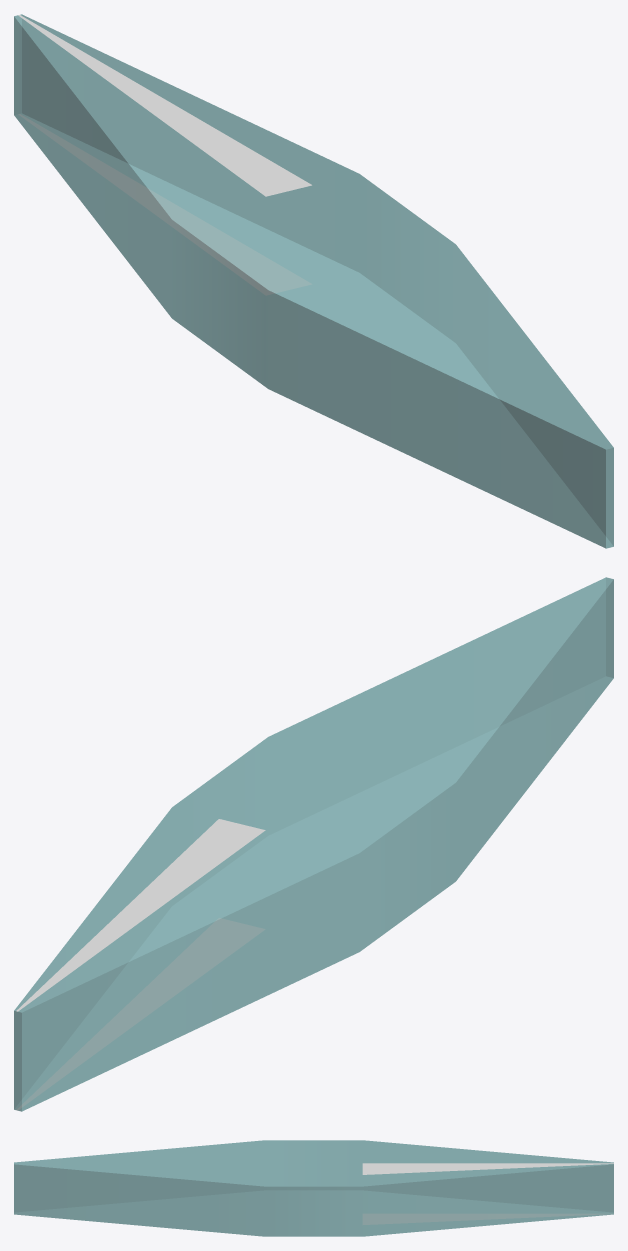
The model's file is ice_shard.fbx.
3 views of the same model, one above another, from view 1: azimuth 30°, elevation 25°; view 2: azimuth 150°, elevation 25°; view 3: azimuth 270°, elevation 25° (orthographic). The views are drawn at different scales.
Parts seen in each view (by area): view 1: pCube9; view 2: pCube9; view 3: pCube9.
Boxes of the visible parts, bbox=[...] form: pCube9: bbox=[14, 14, 613, 548]; pCube9: bbox=[14, 577, 613, 1111]; pCube9: bbox=[14, 1140, 613, 1236].
Bounding box in the file's own units: 0.7289 × 0.3674 × 3.98.
